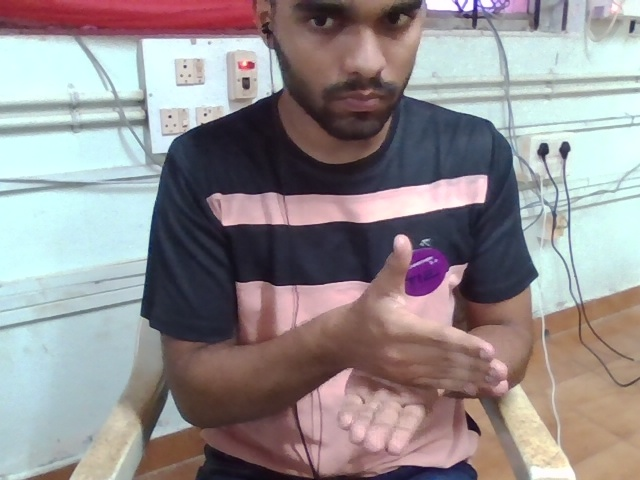stop: (304, 226, 517, 460)
